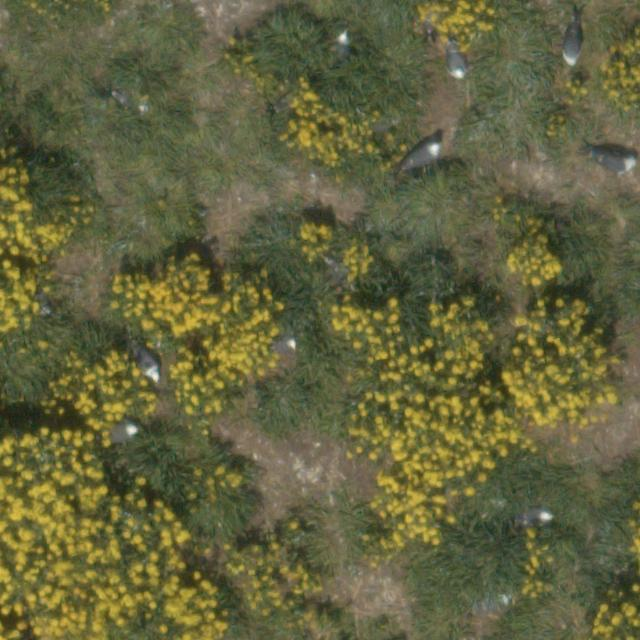umineko: (135, 348, 158, 379), (595, 154, 634, 172), (407, 144, 438, 166), (564, 29, 582, 63), (110, 422, 138, 443), (332, 28, 349, 62), (448, 49, 466, 77), (528, 507, 557, 523), (271, 336, 296, 353)
